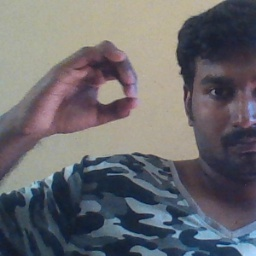O: (23, 41, 148, 139)
